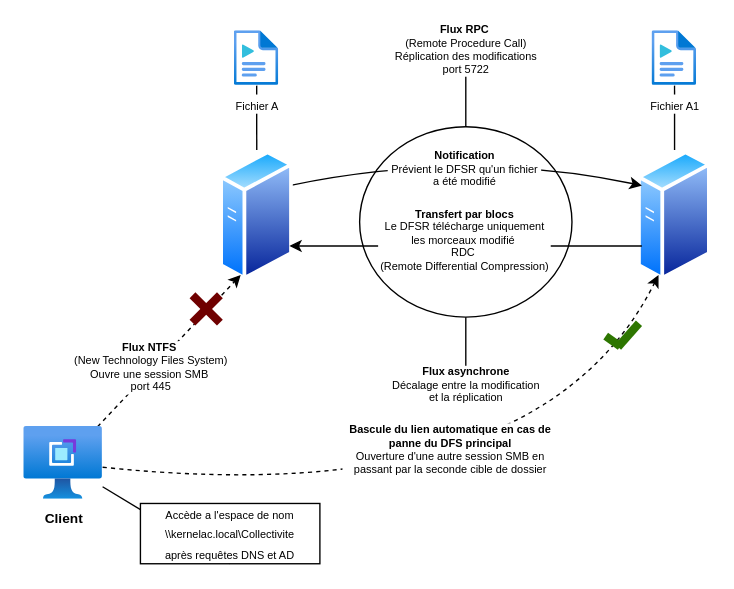
The diagram is 734 pixels wide and 589 high, and some of its shapes have lost their labels. The shapes that lost their labels are listed below. From the top down, each one's centre as x and y in pixels, then its label:
[256,215]: DFS
[674,215]: DFS Réplicat
